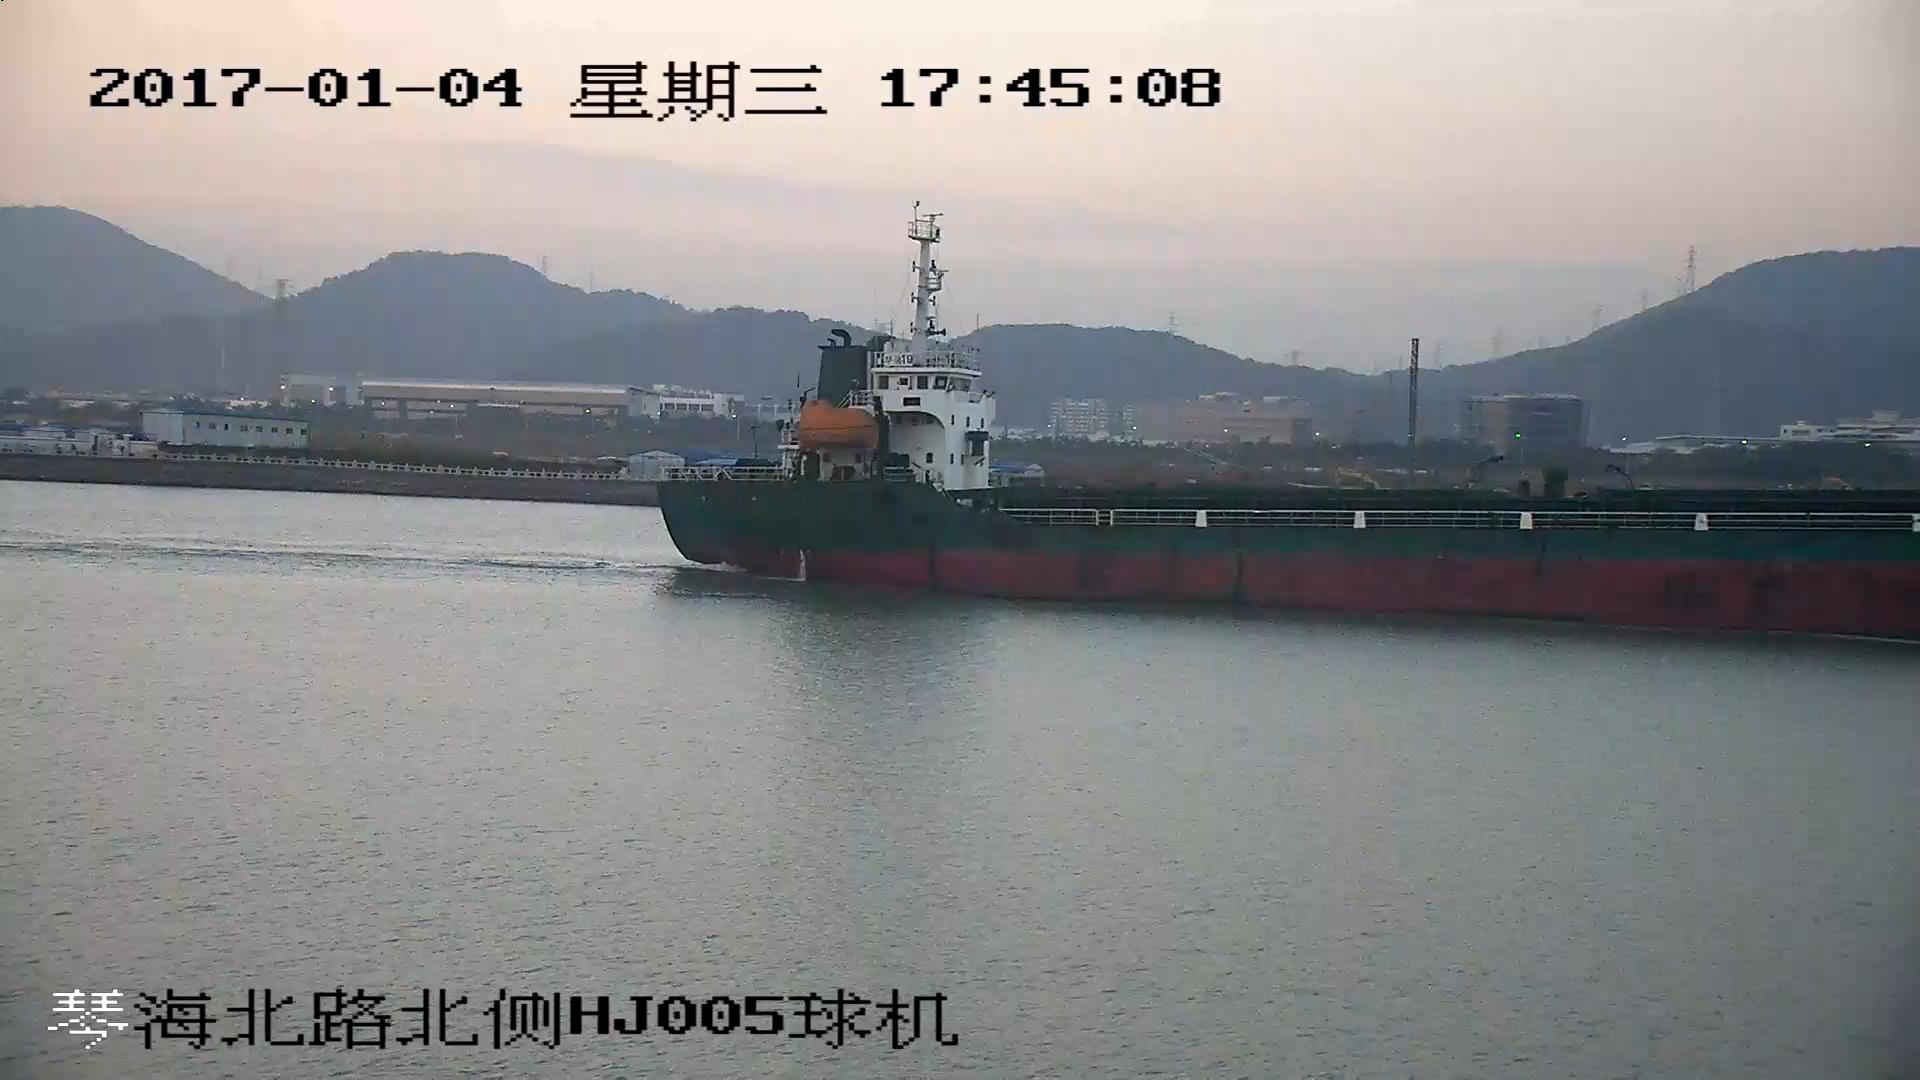general cargo ship: (660, 203, 1920, 643)
